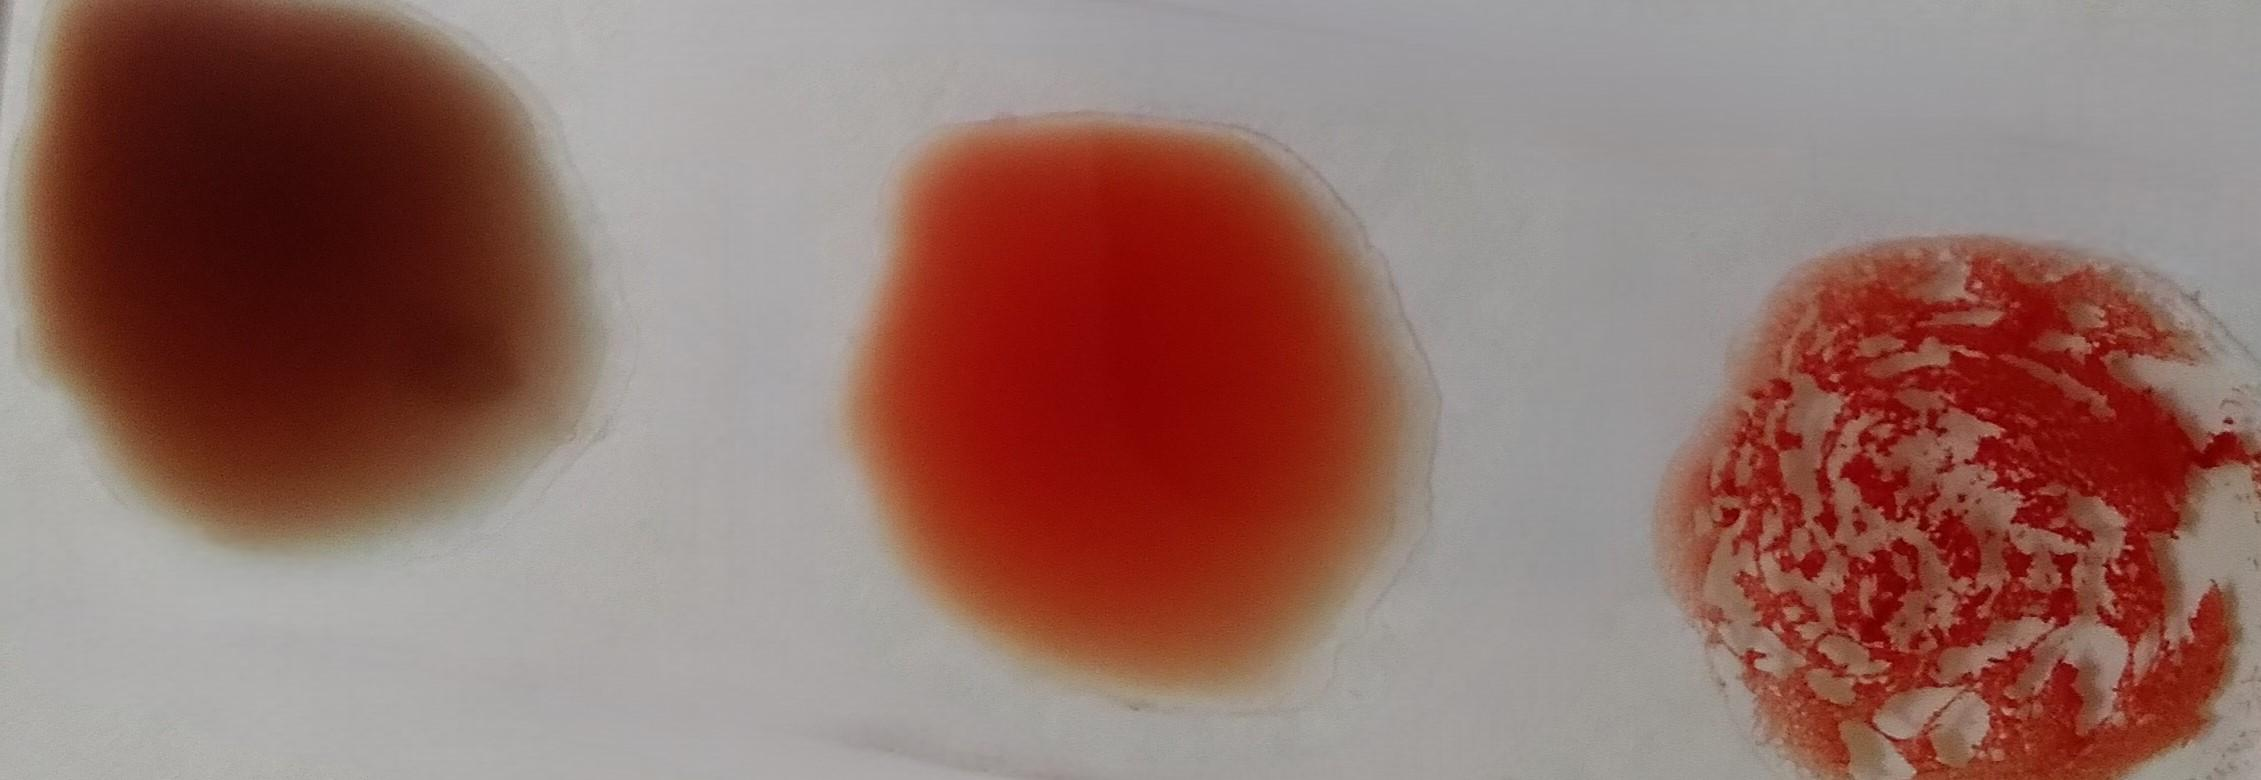D: (1707, 234, 2249, 780)
